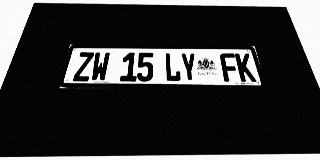1: (120, 52, 138, 81)
5: (137, 53, 153, 82)
F: (219, 53, 240, 82)
K: (235, 53, 256, 82)
L: (164, 53, 181, 82)
W: (90, 52, 110, 81)
Y: (180, 53, 198, 82)
Z: (73, 52, 94, 81)
